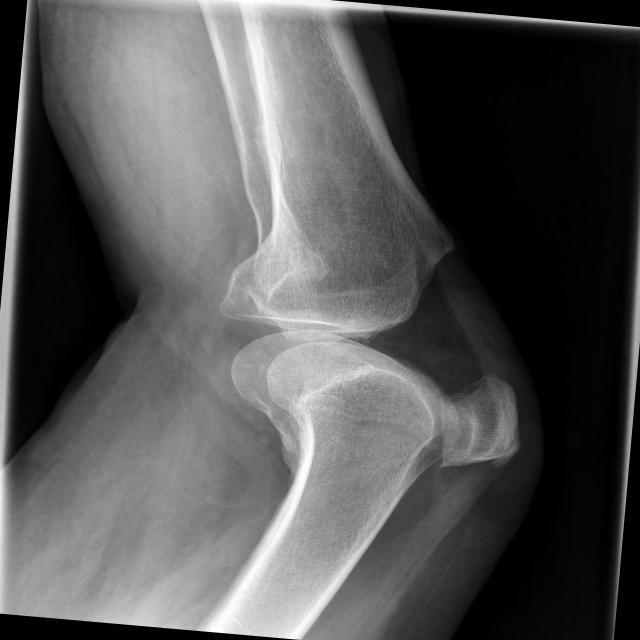Knee: (208, 247, 539, 482), (224, 245, 228, 252)
